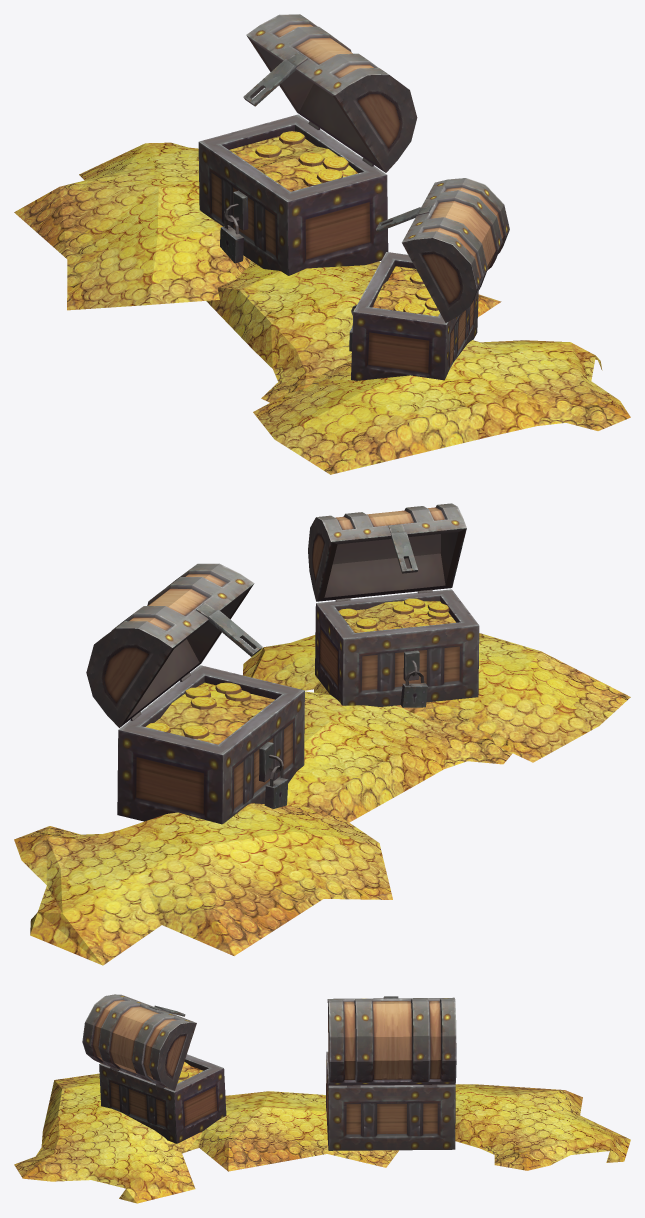
The model's file is Area_13_3.fbx.
3 renders of one model, top to bottom at view 1: azimuth 30°, elevation 25°; view 2: azimuth 150°, elevation 25°; view 3: azimuth 270°, elevation 25°, orthographic. The views are drawn at different scales.
Visible parts, largest first — view 1: Area_13_3; view 2: Area_13_3; view 3: Area_13_3.
Part boxes in pixels (bbox=[...]): Area_13_3: bbox=[14, 14, 630, 474]; Area_13_3: bbox=[14, 503, 630, 965]; Area_13_3: bbox=[14, 994, 630, 1203].
Bounding box in the file's own units: 446 × 284 × 936.
